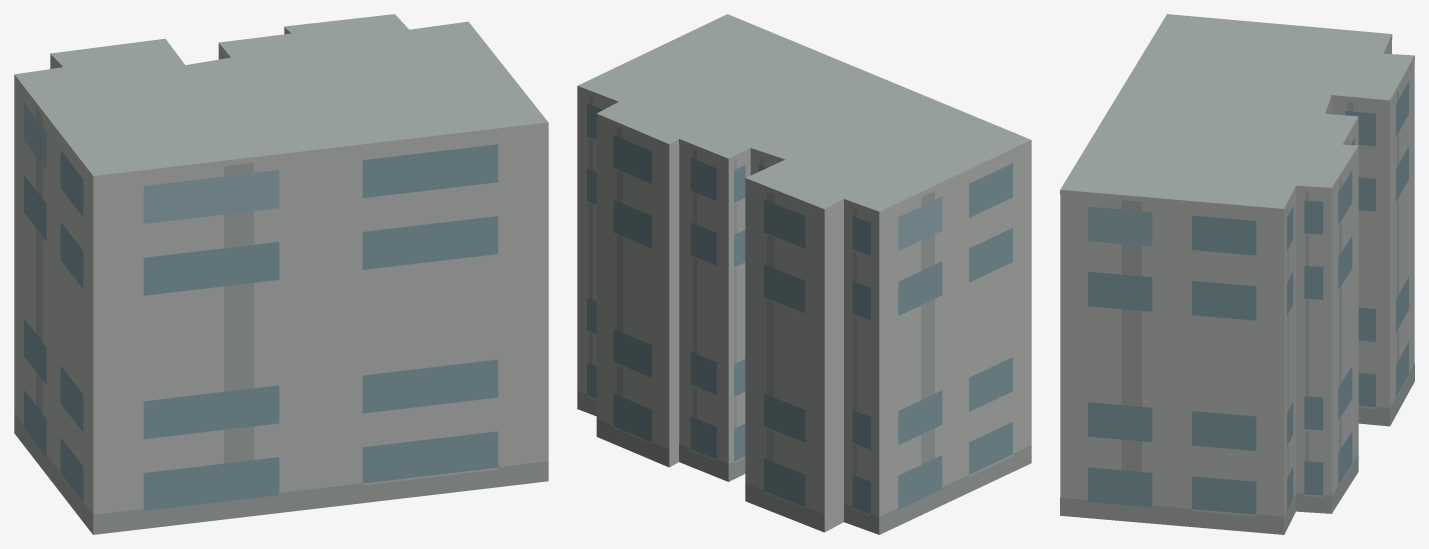
File: survey-upis-32799455.glb
3 views of the same model, side by side, from view 1: azimuth 30°, elevation 25°; view 2: azimuth 150°, elevation 25°; view 3: azimuth 270°, elevation 25° (orthographic). The views are drawn at different scales.
Parts seen in each view (by area): view 1: survey-upis-32799455.tmp; view 2: survey-upis-32799455.tmp; view 3: survey-upis-32799455.tmp.
Part boxes in pixels (x1,y1,x2,y2): survey-upis-32799455.tmp: (14, 14, 548, 534); survey-upis-32799455.tmp: (577, 14, 1031, 534); survey-upis-32799455.tmp: (1060, 14, 1414, 534).
Size of the model in its own units: 19.57 by 15.25 by 15.05.
